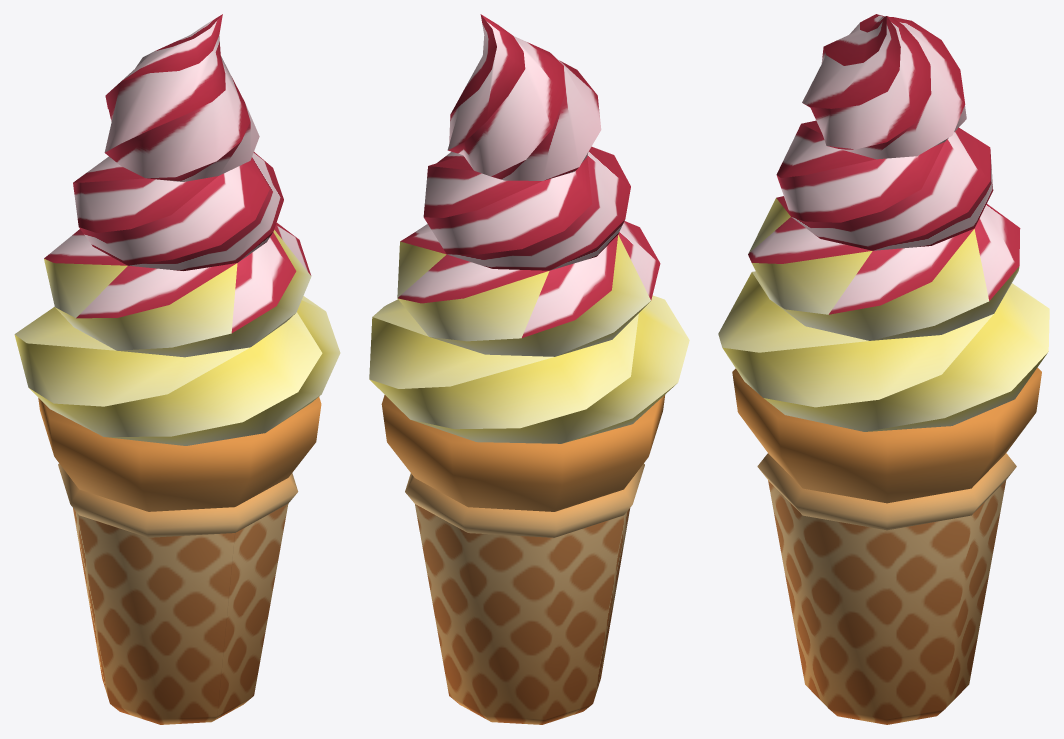
File: m_Softserve07.fbx
The picture shows the model from 3 angles, left to right: view 1: azimuth 30°, elevation 25°; view 2: azimuth 150°, elevation 25°; view 3: azimuth 270°, elevation 25°; orthographic projection. The views are drawn at different scales.
Parts seen in each view (by area): view 1: m_Softserve07; view 2: m_Softserve07; view 3: m_Softserve07.
Boxes of the visible parts, <box> form: m_Softserve07: <box>14,14,340,724</box>; m_Softserve07: <box>369,14,689,724</box>; m_Softserve07: <box>718,14,1049,724</box>.
Bounding box in the file's own units: 11.45 × 26 × 11.13.
